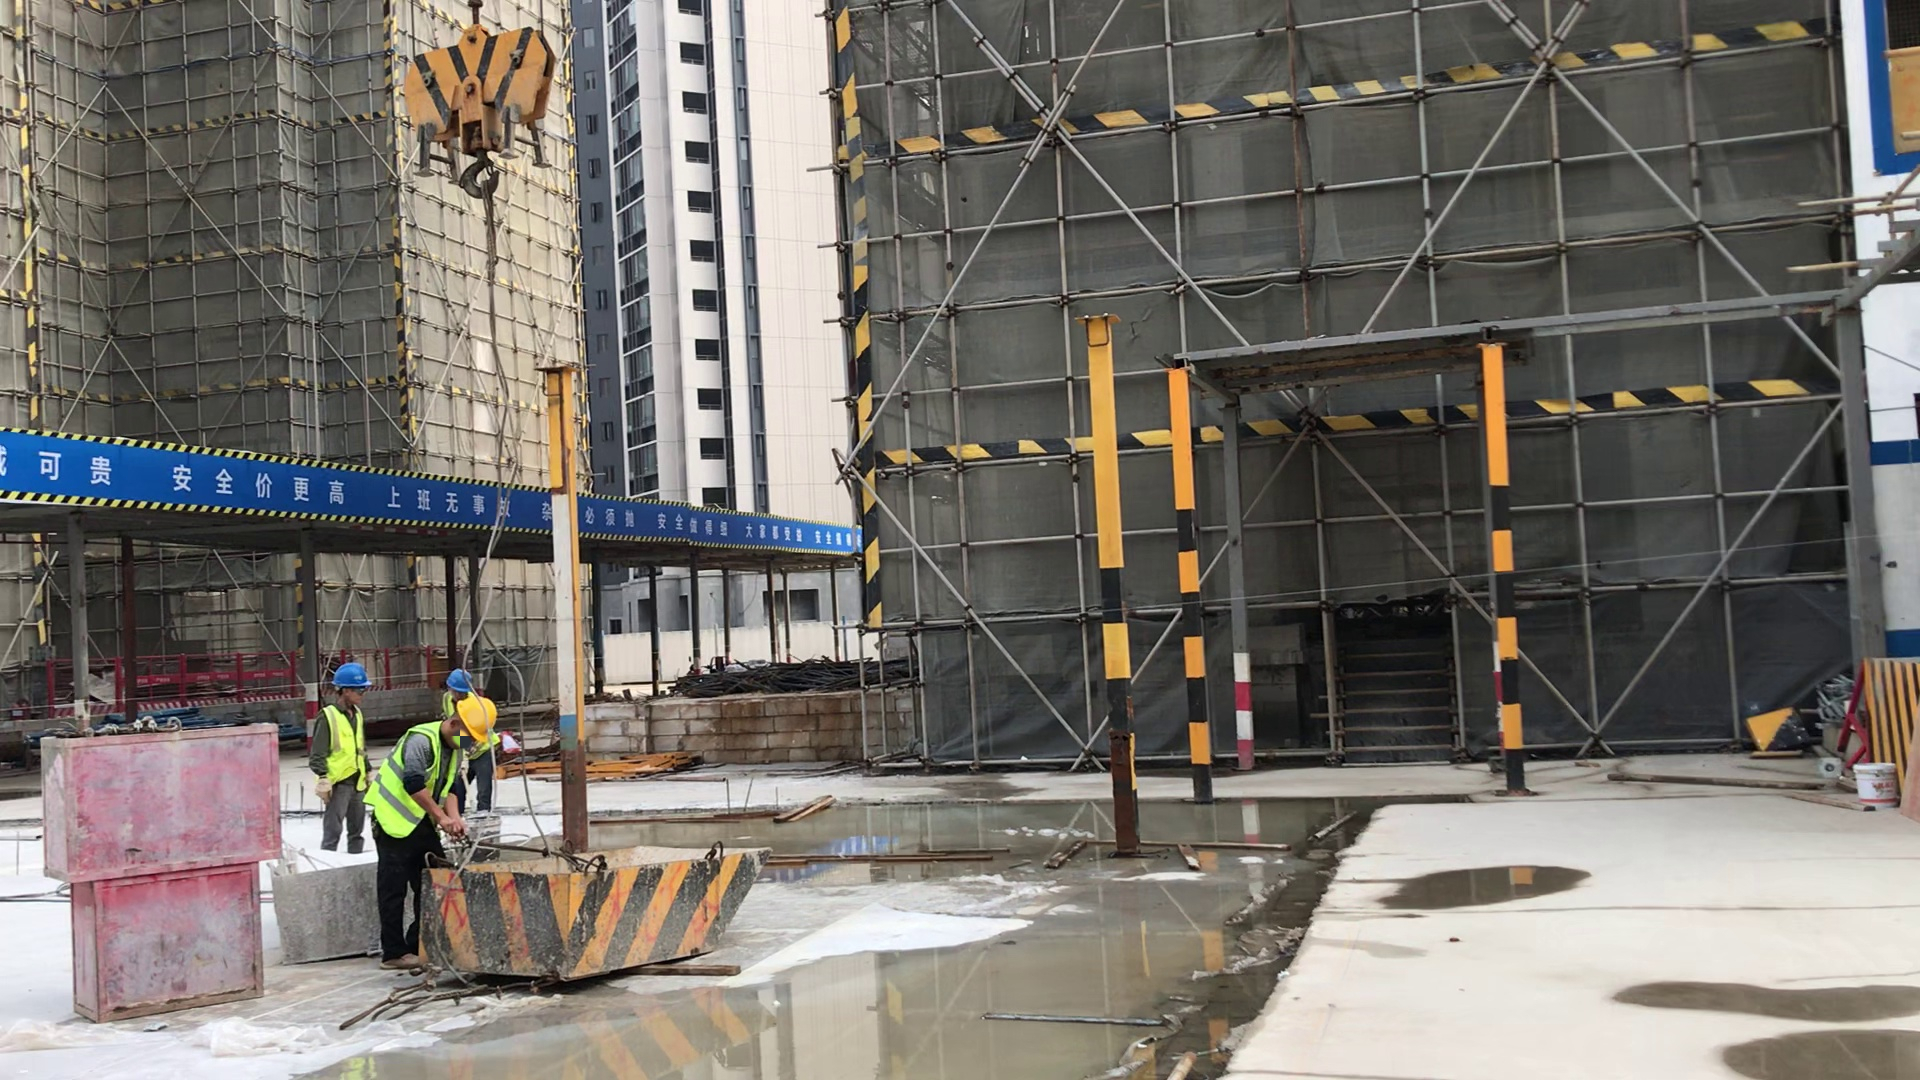fence: (6, 417, 545, 531), (584, 494, 852, 567), (140, 649, 299, 700), (373, 646, 433, 691)
helmet: (452, 697, 497, 747), (328, 663, 371, 688), (443, 669, 474, 693)
hook: (402, 23, 560, 194)
hopper: (430, 839, 787, 982), (269, 853, 376, 972)
person: (366, 695, 500, 974), (311, 663, 370, 853)
vest: (368, 720, 466, 839), (320, 703, 370, 793)
